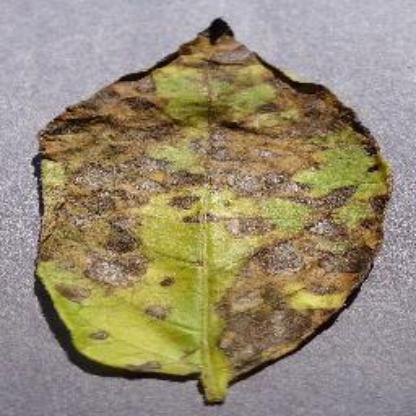Early-Blight: (30, 17, 393, 404)
